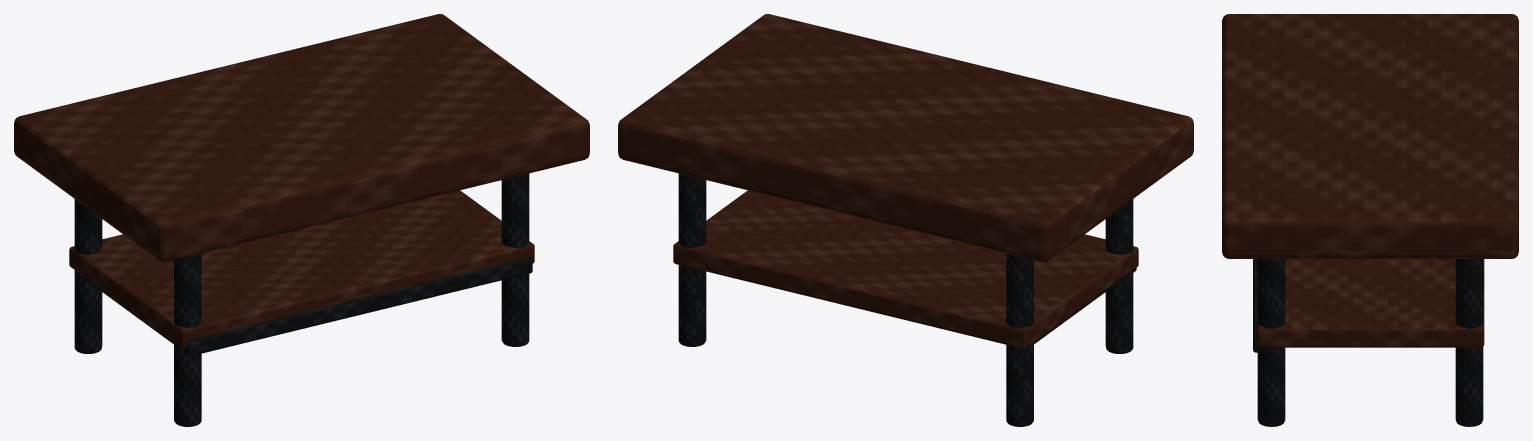
The model's file is coffee-table-pbr-v1.glb.
3 views of the same model, side by side, from view 1: azimuth 30°, elevation 25°; view 2: azimuth 150°, elevation 25°; view 3: azimuth 270°, elevation 25° (orthographic).
Parts seen in each view (by area): view 1: coffee-top, coffee-shelf, coffee-crossbar-x, coffee-metal-leg.001, coffee-metal-leg.003, coffee-metal-leg.002; view 2: coffee-top, coffee-shelf, coffee-metal-leg, coffee-metal-leg.002, coffee-metal-leg.001; view 3: coffee-top, coffee-shelf, coffee-metal-leg, coffee-metal-leg.003, coffee-crossbar-x.
Part boxes in pixels (x1=…): coffee-top: x1=14, y1=14, x2=589, y2=262; coffee-shelf: x1=69, y1=190, x2=534, y2=348; coffee-crossbar-x: x1=184, y1=257, x2=532, y2=356; coffee-metal-leg.001: x1=174, y1=253, x2=201, y2=426; coffee-metal-leg.003: x1=501, y1=173, x2=529, y2=346; coffee-metal-leg.002: x1=74, y1=199, x2=102, y2=353; coffee-top: x1=618, y1=14, x2=1193, y2=262; coffee-shelf: x1=673, y1=190, x2=1138, y2=348; coffee-metal-leg: x1=678, y1=173, x2=706, y2=346; coffee-metal-leg.002: x1=1006, y1=253, x2=1033, y2=426; coffee-metal-leg.001: x1=1105, y1=199, x2=1133, y2=353; coffee-top: x1=1222, y1=14, x2=1518, y2=258; coffee-shelf: x1=1256, y1=259, x2=1484, y2=347; coffee-metal-leg: x1=1455, y1=259, x2=1483, y2=426; coffee-metal-leg.003: x1=1257, y1=259, x2=1285, y2=426; coffee-crossbar-x: x1=1253, y1=259, x2=1261, y2=352.
Size of the model in its own units: 1 by 0.505 by 0.6.
2 materials, 2 textured.
